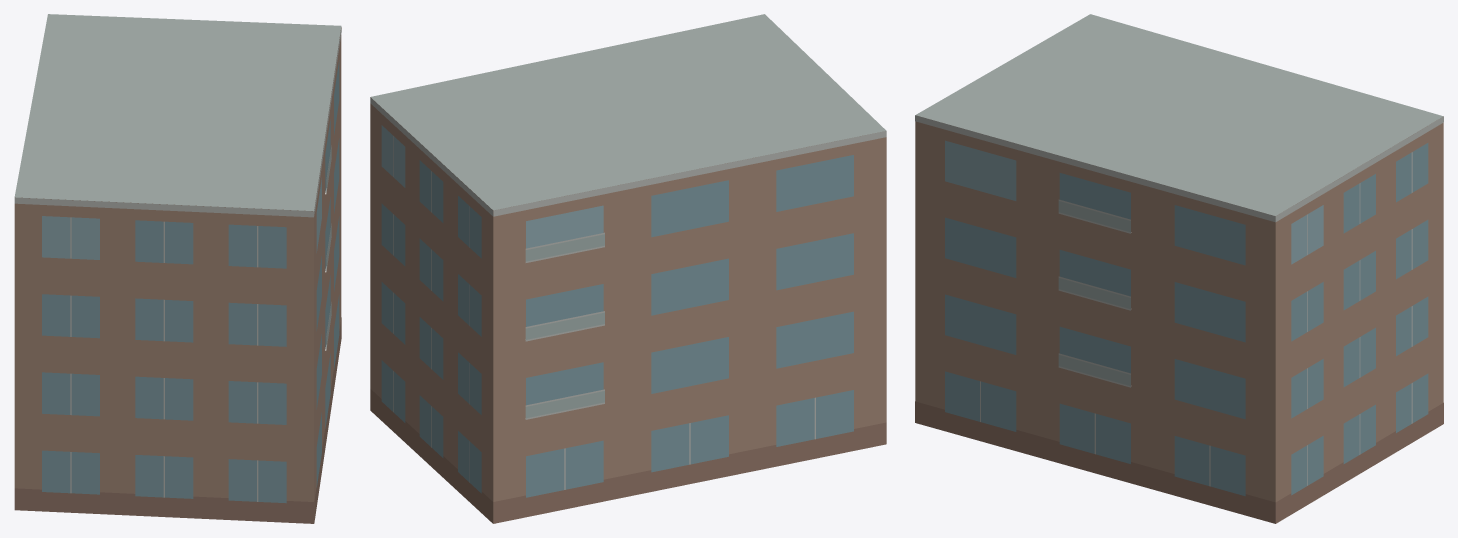
File: survey-upis-32907509.glb
The picture shows the model from 3 angles, left to right: view 1: azimuth 30°, elevation 25°; view 2: azimuth 150°, elevation 25°; view 3: azimuth 270°, elevation 25°; orthographic projection.
Parts seen in each view (by area): view 1: survey-upis-32907509.tmp; view 2: survey-upis-32907509.tmp; view 3: survey-upis-32907509.tmp.
Boxes of the visible parts, left/top/right/bottom form: survey-upis-32907509.tmp: left=14, top=14, right=341, bottom=523; survey-upis-32907509.tmp: left=370, top=14, right=886, bottom=523; survey-upis-32907509.tmp: left=915, top=14, right=1443, bottom=523.
Size of the model in its own units: 17.2 by 12.2 by 19.
